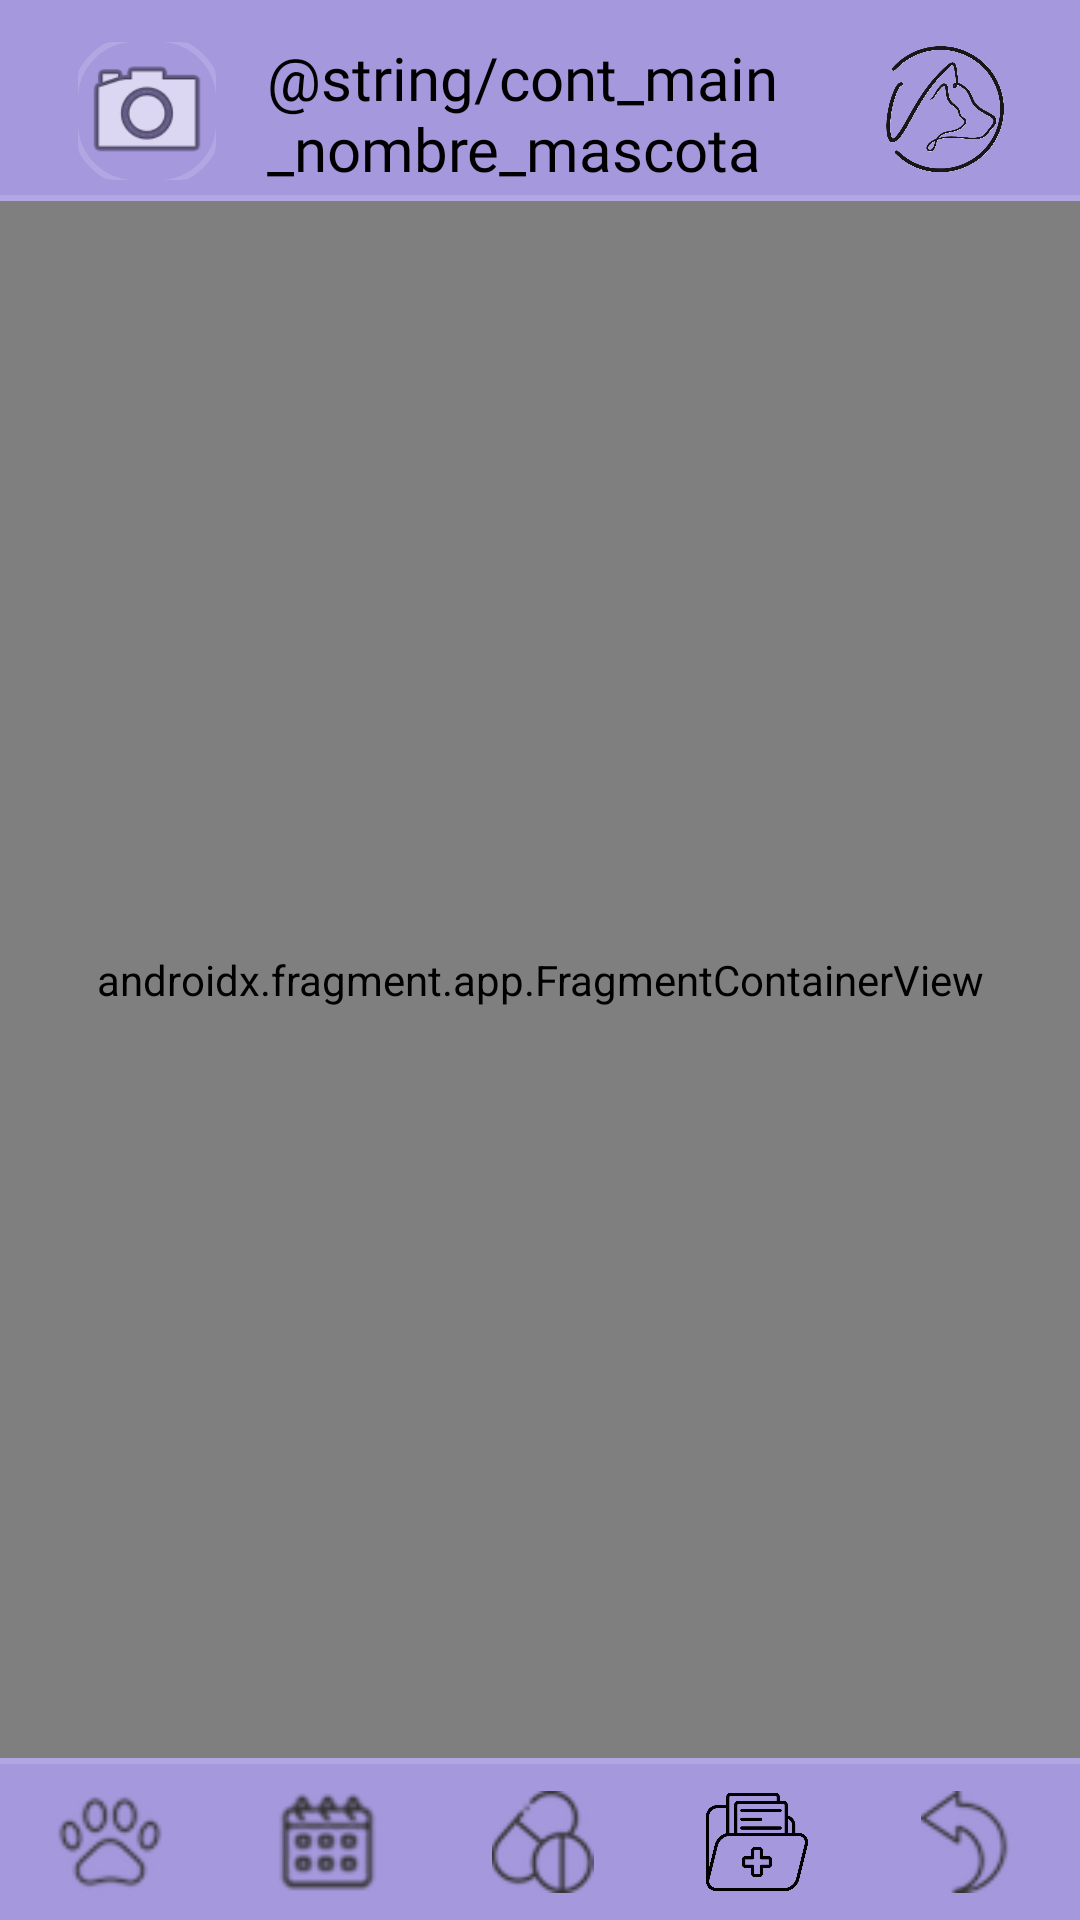

Where icons sit on this 1080px×1920px app screen, as rect(x1, y1, x2, y2):
calendar: rect(280, 1794, 375, 1890)
camera: rect(94, 66, 200, 151)
huella: rect(59, 1797, 161, 1887)
informes: rect(706, 1793, 808, 1891)
regresa: rect(921, 1791, 1008, 1893)
tratamiento: rect(492, 1791, 594, 1893)
